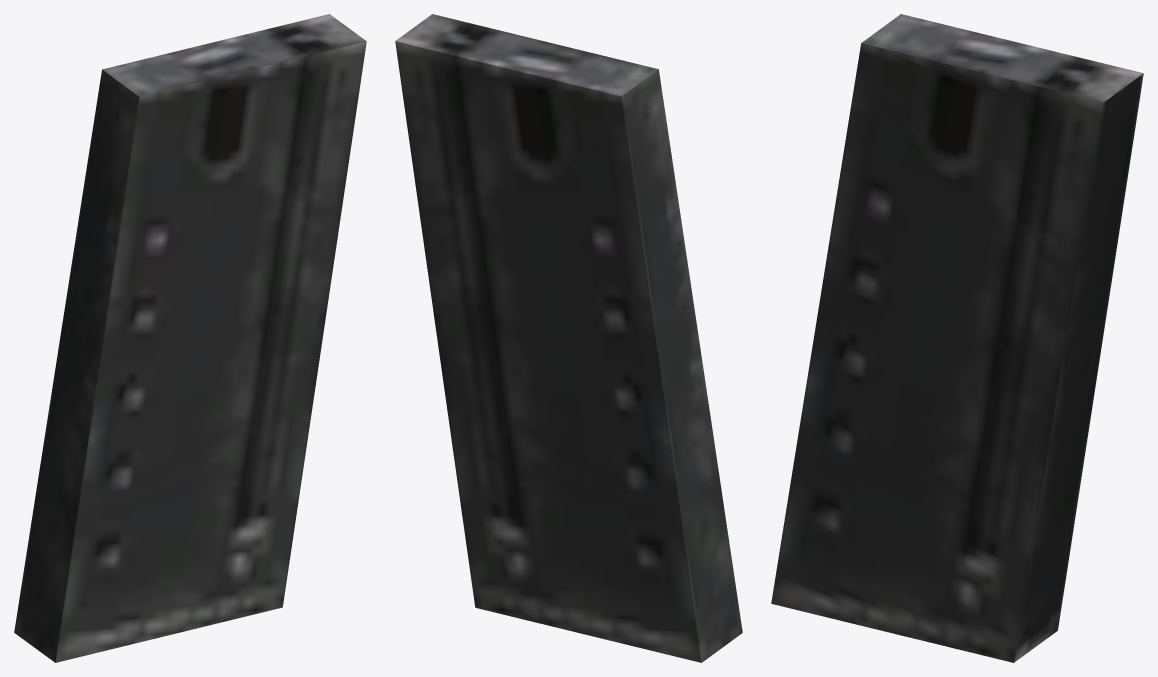
File: Weapon_Armas_Magnum_Weapon_Armas_Magnum_SkeletalMesh3_Crm_Magnum_Clip_mk3_LOD0.psk.glb
The picture shows the model from 3 angles, left to right: view 1: azimuth 30°, elevation 25°; view 2: azimuth 150°, elevation 25°; view 3: azimuth 330°, elevation 25°; orthographic projection. The views are drawn at different scales.
Bounding box in the file's own units: 5.35 × 8.95 × 1.23.
Materials: 1 (1 with a texture image).
